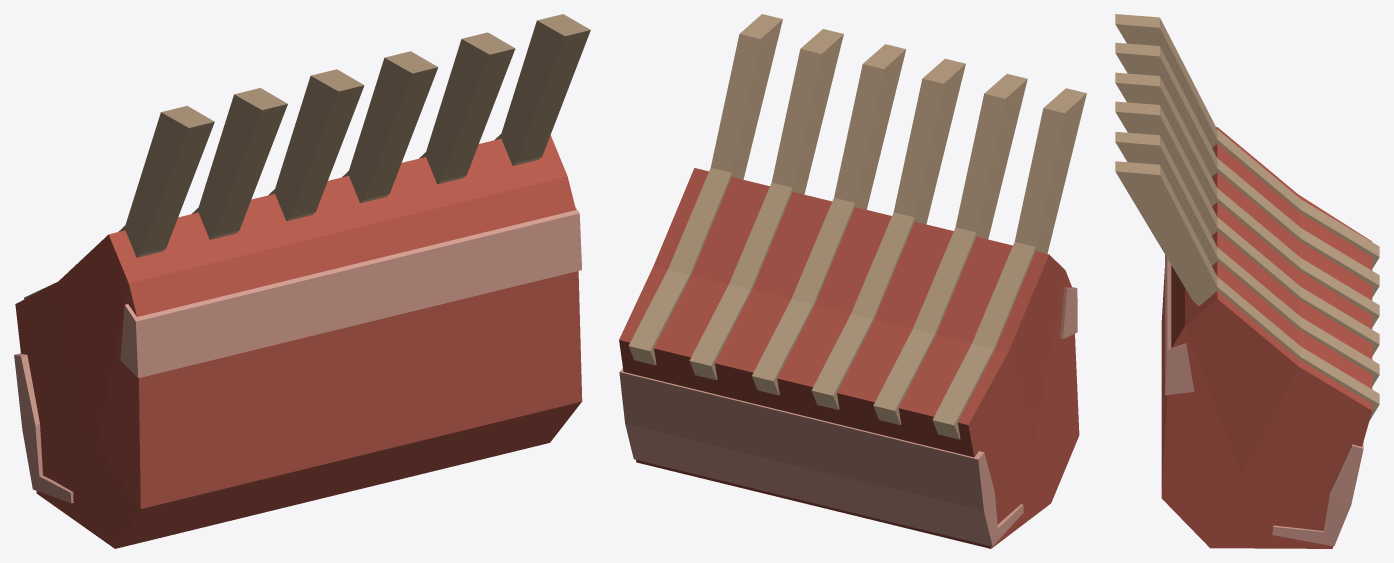
The model's file is lambRib.fbx.
3 views of the same model, side by side, from view 1: azimuth 30°, elevation 25°; view 2: azimuth 150°, elevation 25°; view 3: azimuth 270°, elevation 25° (orthographic). The views are drawn at different scales.
Parts seen in each view (by area): view 1: lambRib; view 2: lambRib; view 3: lambRib.
Part boxes in pixels (x1=…): lambRib: x1=14, y1=14, x2=590, y2=548; lambRib: x1=619, y1=14, x2=1086, y2=548; lambRib: x1=1115, y1=14, x2=1379, y2=548.
Size of the model in its own units: 22.69 by 22.43 by 14.55.
1 material, 1 textured.
